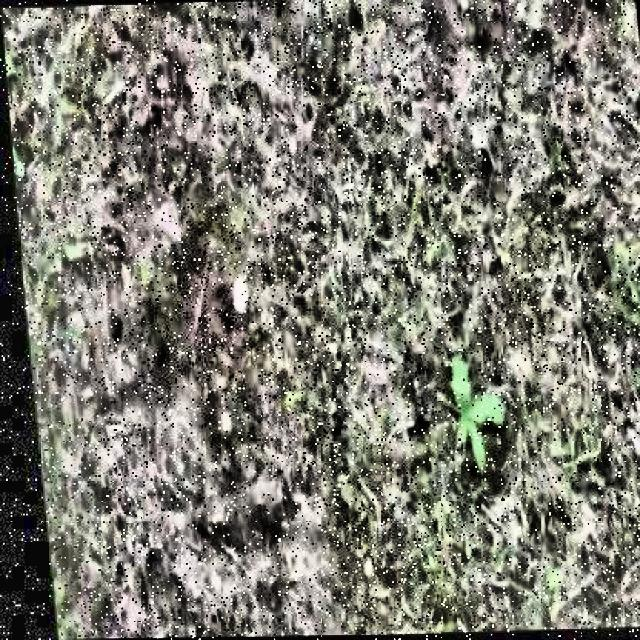Weeds: (434, 352, 508, 474)
